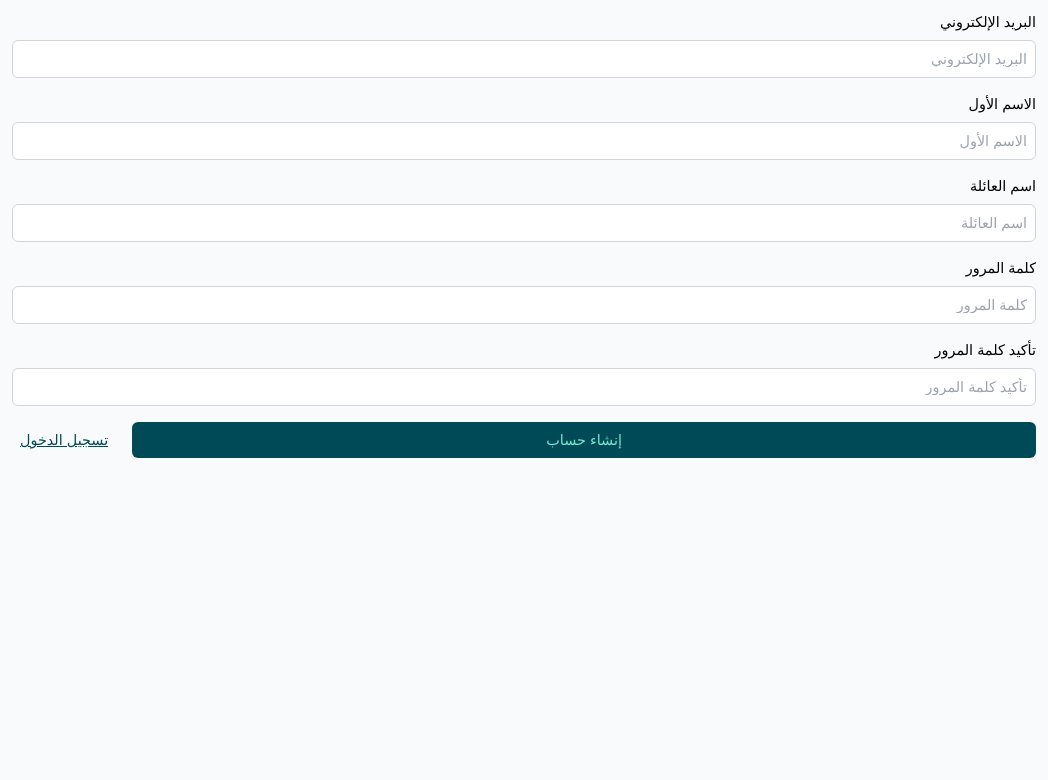
Test case: SignUpForm › validates required fields
Click the button "إنشاء حساب" at (584, 440), box [132,422,1036,458]
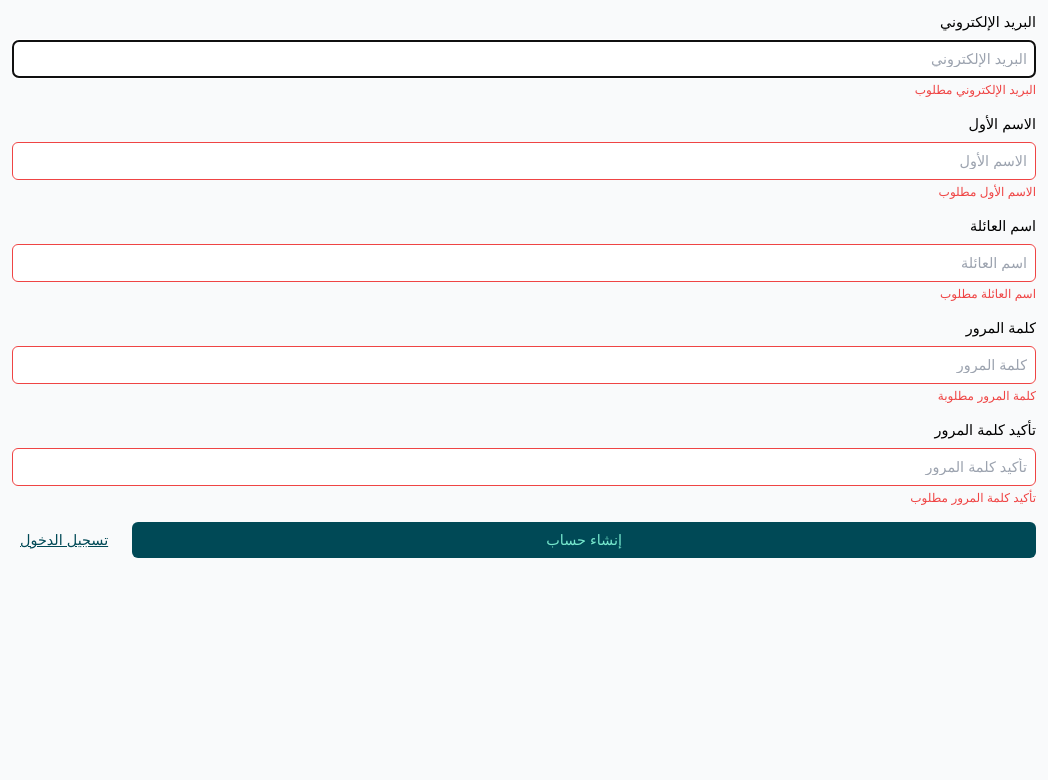
Result: the text "البريد الإلكتروني مطلوب" is shown at [915,82,1036,97]
Result: the text "الاسم الأول مطلوب" is shown at [939,184,1036,199]
Result: the text "اسم العائلة مطلوب" is shown at [940,286,1036,301]
